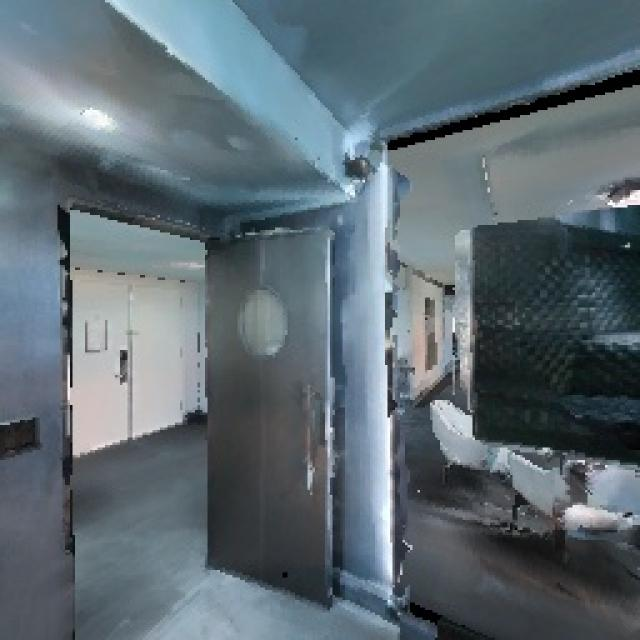door: (197, 224, 336, 604)
door-frame: (54, 193, 231, 640)
